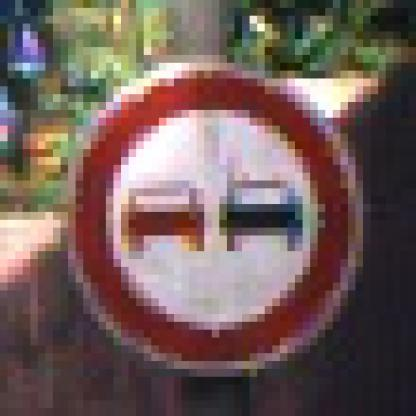No Overtaking: (47, 40, 372, 378)
